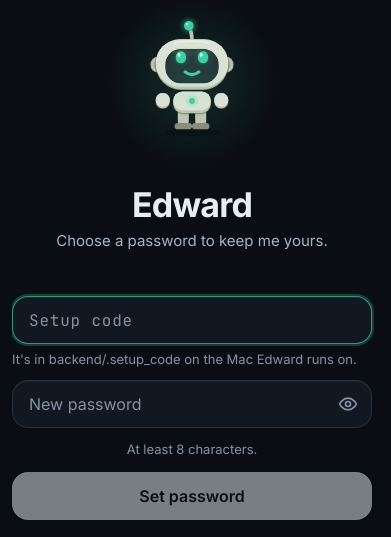
Scenario: the setup form › a password set meanwhile turns the form into the sign-in form
Type "K7QH-M3TX-9PWF" into the field labelled "Setup code" at (192, 320), box [12, 296, 372, 344]
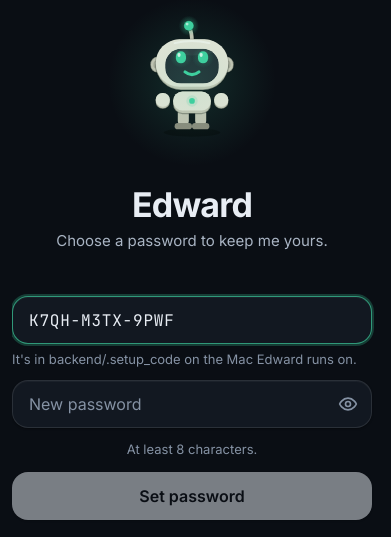
Type "a long enough one" into the password field labelled "password" at (192, 404), box [12, 380, 372, 428]
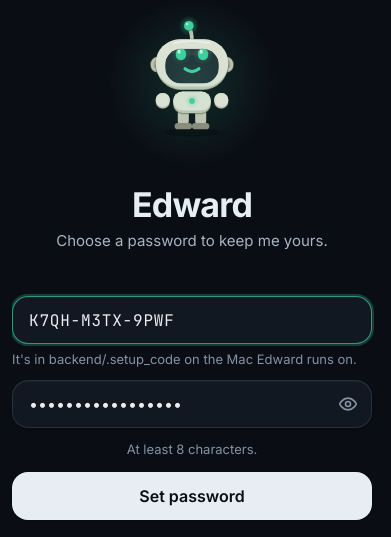
Click the button "Set password" at (192, 496), box [12, 472, 372, 520]
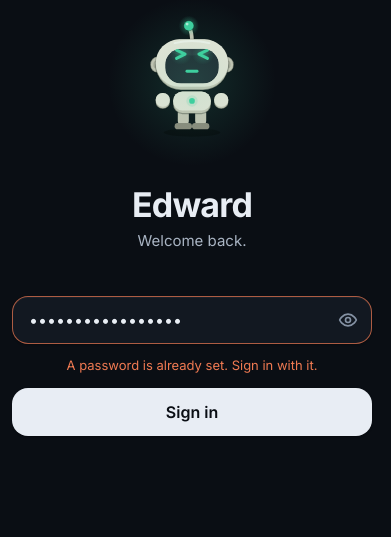
Expected: the field labelled "Setup code" is not shown
Result: the message reads "A password is already set. Sign in with it." at [66, 357, 317, 373]
Result: the button "Sign in" is shown at [12, 388, 372, 436]
